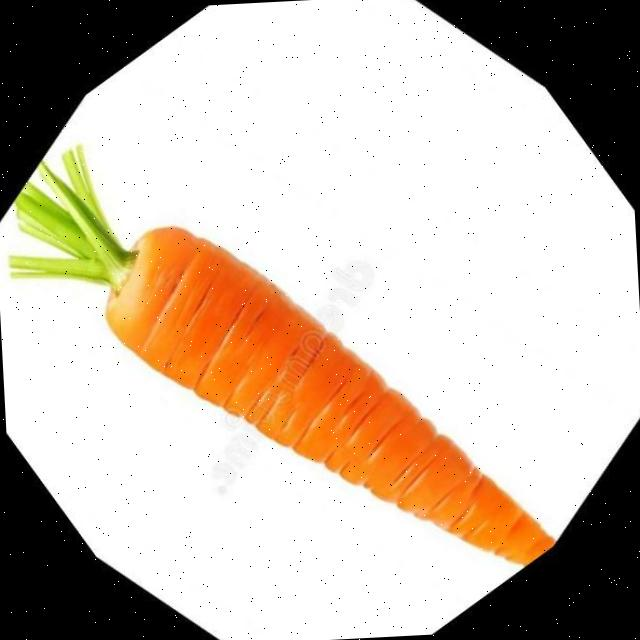carrot: (10, 146, 553, 565)
